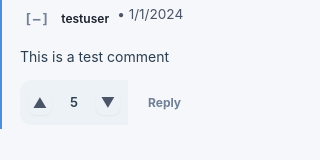
it: CommentItem Component › should toggle collapse when collapse button is clicked
Click the button "[−]" at point(37, 19), box x1=20 y1=12 x2=53 y2=26
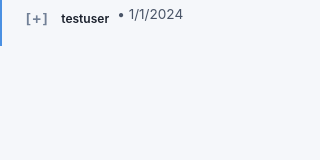
Result: the button "[+]" is shown at x1=20 y1=12 x2=53 y2=26
